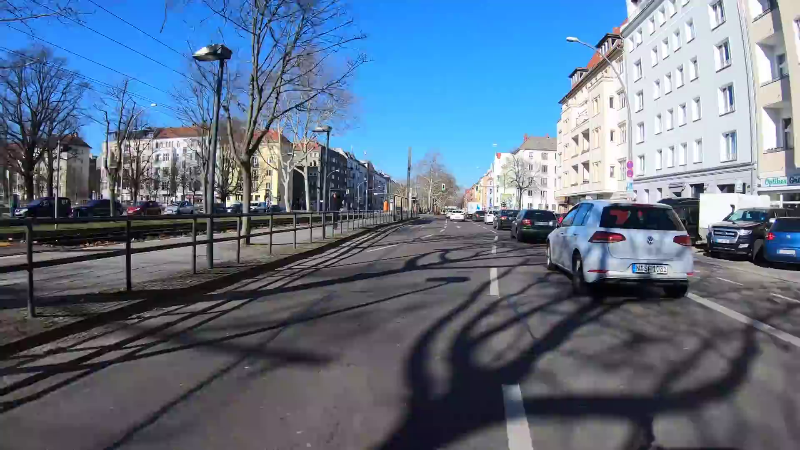Plate: (631, 262, 667, 274)
